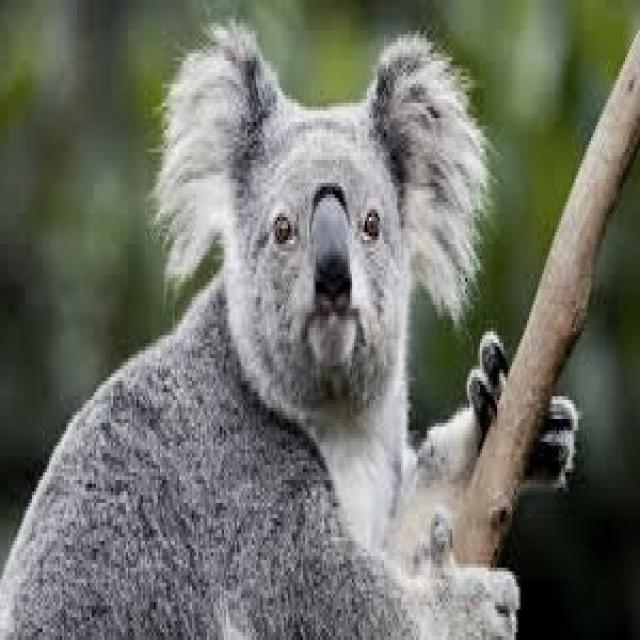koala: (2, 23, 521, 636)
